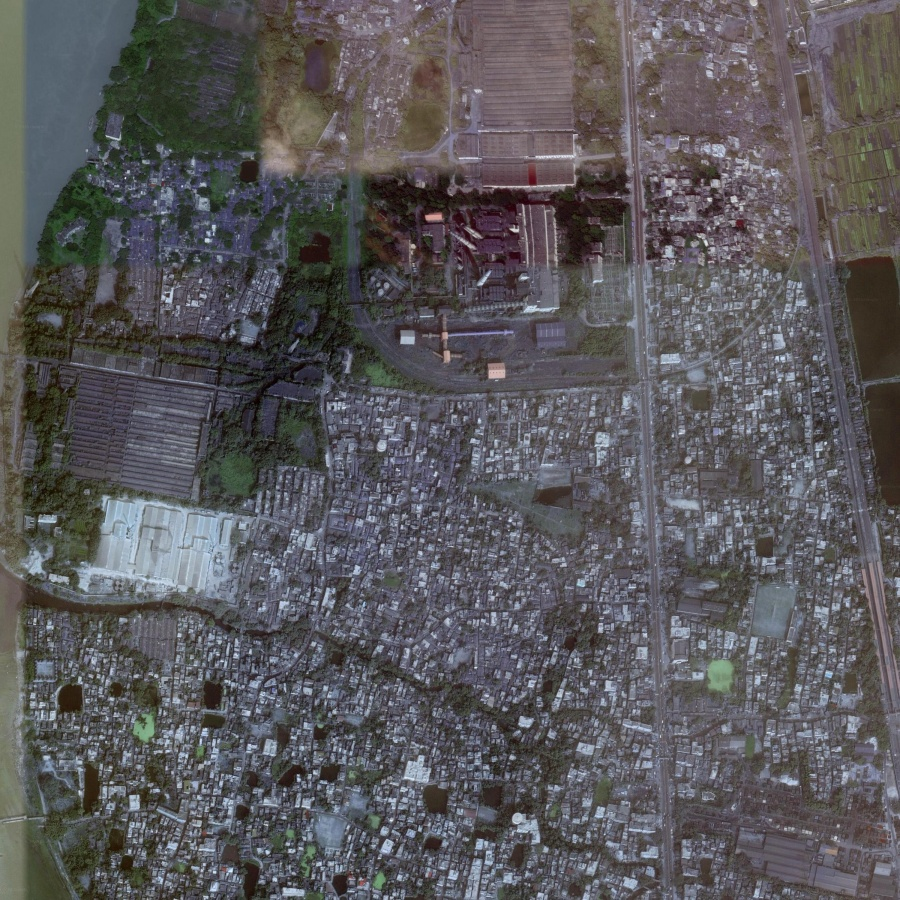PowerPlant: (354, 139, 599, 378)
